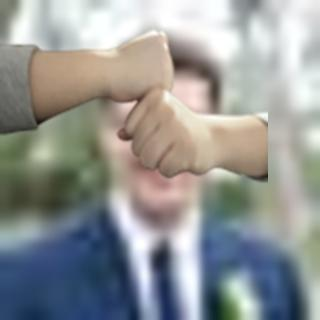CAREFUL: (10, 26, 265, 182)
